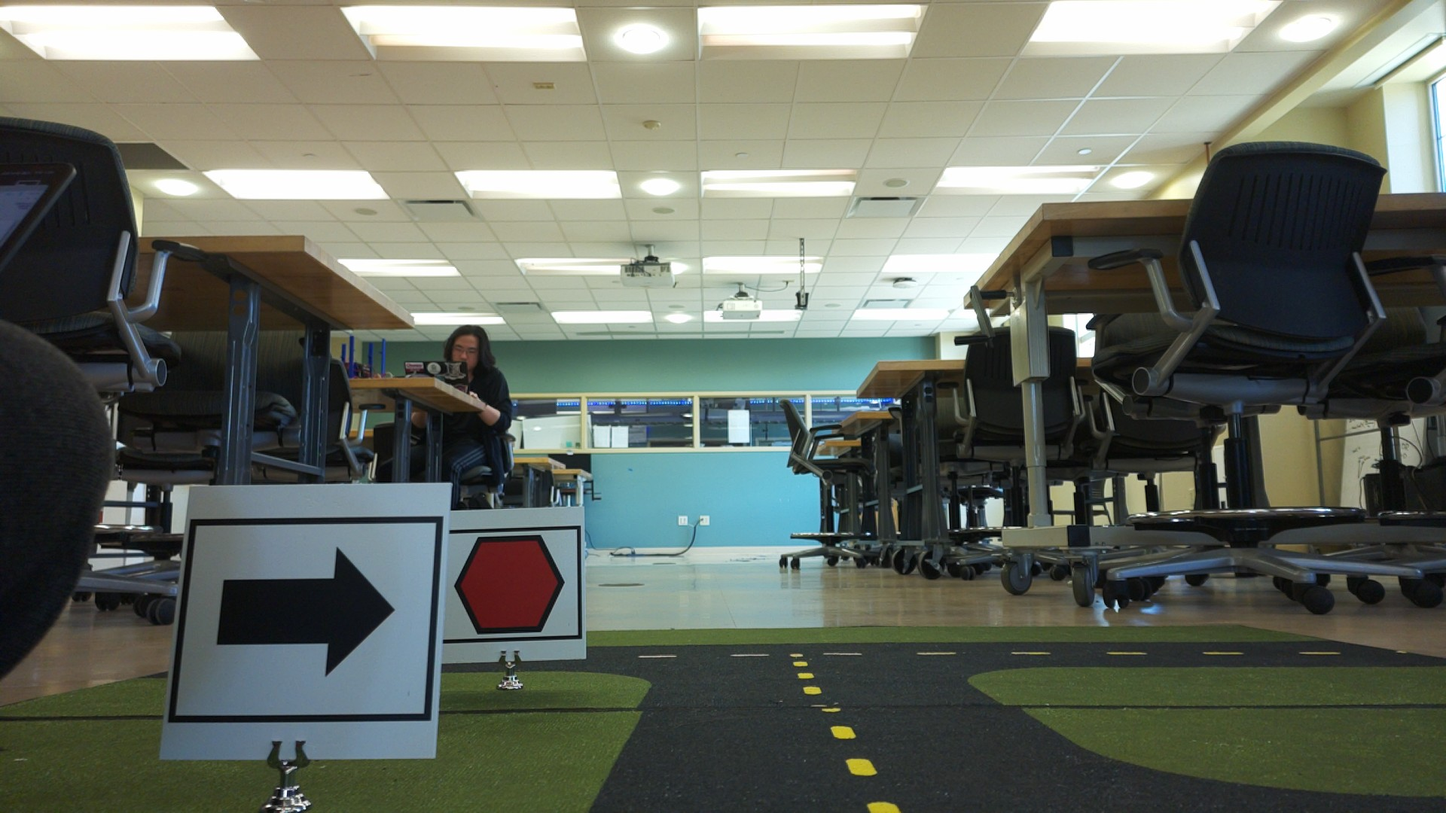stop: (446, 531, 572, 642)
turnright: (191, 524, 428, 725)
yellowline: (832, 722, 896, 813), (795, 658, 822, 699)
